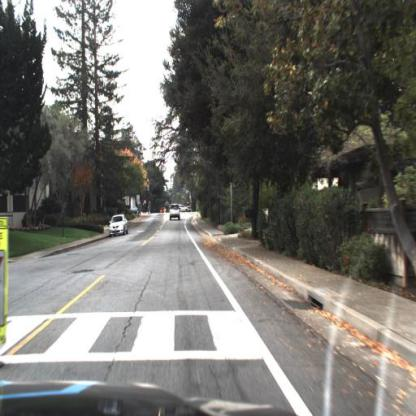car: (108, 214, 131, 241), (170, 202, 182, 224)
